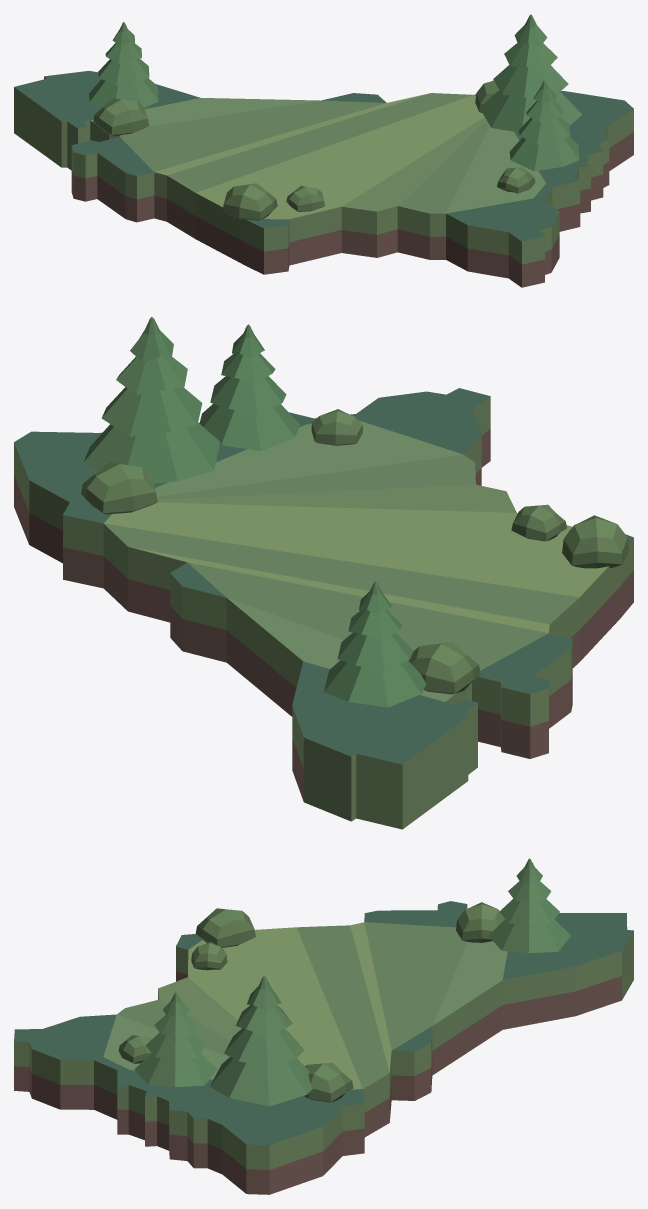
The model's file is suntar.gltf.
3 renders of one model, top to bottom at view 1: azimuth 30°, elevation 25°; view 2: azimuth 150°, elevation 25°; view 3: azimuth 270°, elevation 25°, orthographic. The views are drawn at different scales.
Parts seen in each view (by area): view 1: сунтар; view 2: сунтар; view 3: сунтар.
Boxes of the visible parts, left/top/right/bottom form: сунтар: left=14, top=14, right=633, bottom=287; сунтар: left=14, top=317, right=633, bottom=829; сунтар: left=14, top=858, right=633, bottom=1194.
Size of the model in its own units: 1.65 by 0.5325 by 1.77.
